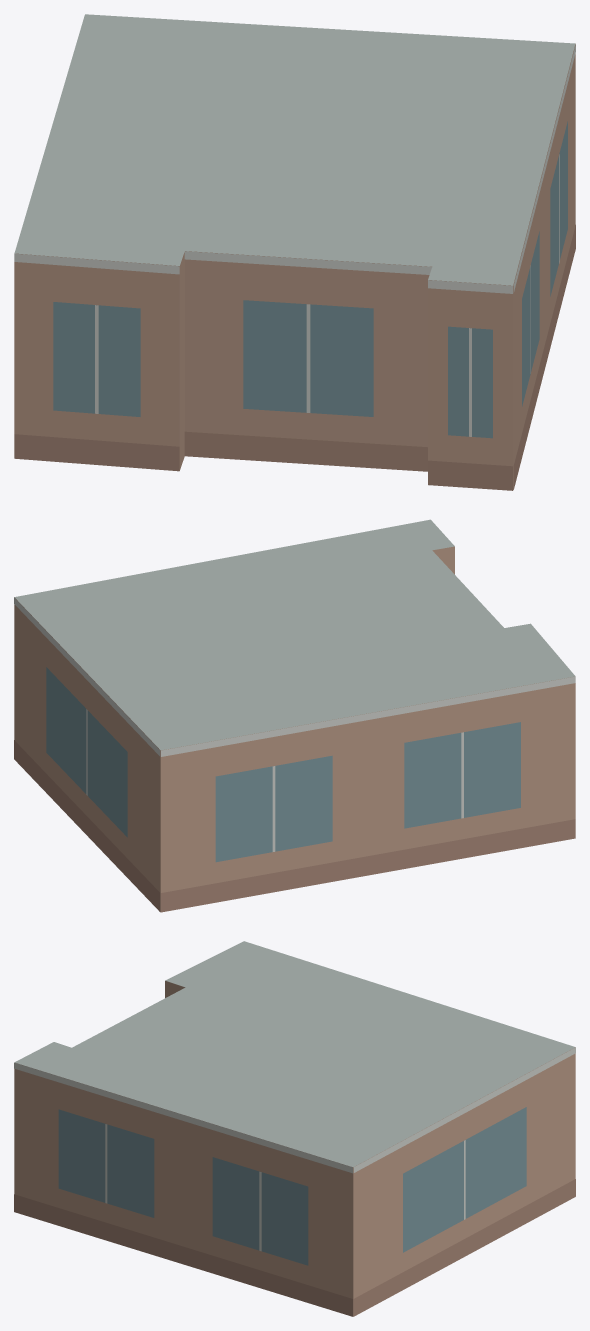
Rendered from survey-upis-32761263.glb.
3 views of the same model, one above another, from view 1: azimuth 30°, elevation 25°; view 2: azimuth 150°, elevation 25°; view 3: azimuth 270°, elevation 25° (orthographic). The views are drawn at different scales.
Visible parts, largest first — view 1: survey-upis-32761263.tmp; view 2: survey-upis-32761263.tmp; view 3: survey-upis-32761263.tmp.
Boxes of the visible parts, box(x1,y1,x2,y2) form: survey-upis-32761263.tmp: box(14, 14, 575, 490); survey-upis-32761263.tmp: box(14, 519, 575, 912); survey-upis-32761263.tmp: box(14, 941, 575, 1316).
Size of the model in its own units: 9.91 by 3.05 by 10.39.
